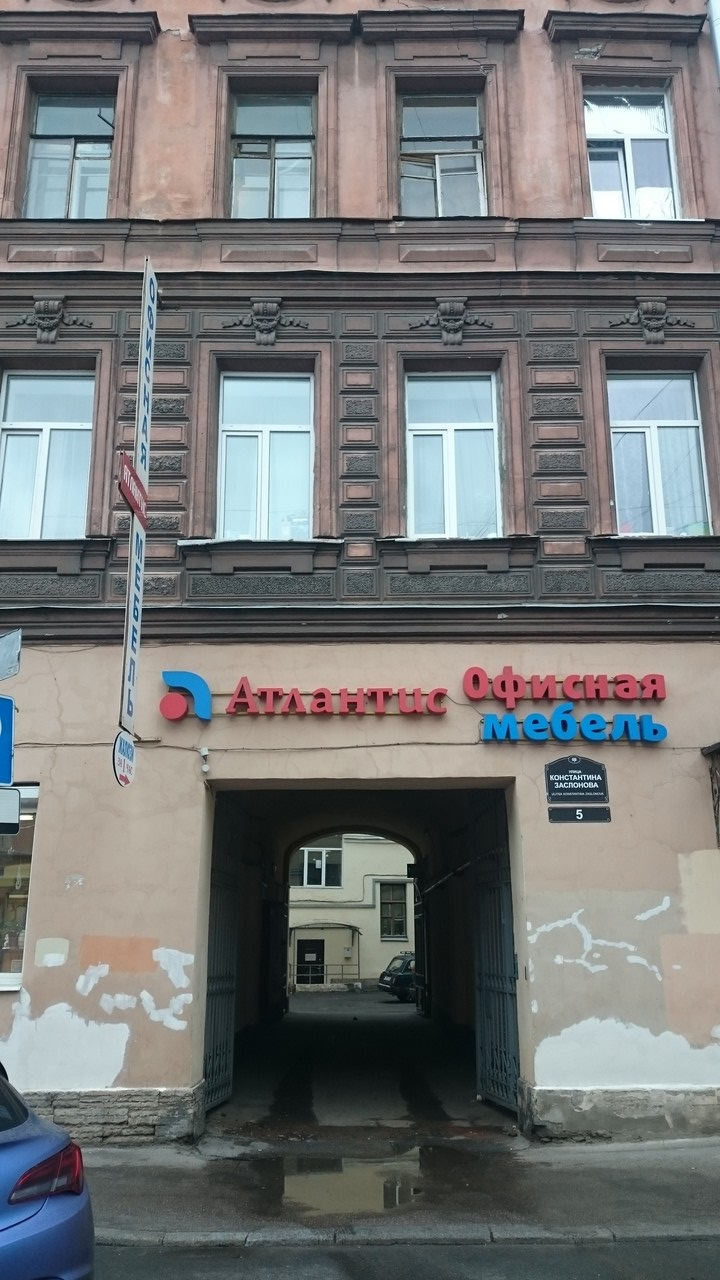arch: (196, 773, 543, 1133)
cantilever: (114, 248, 169, 788)
signboard: (157, 654, 672, 750)
window: (601, 357, 712, 535), (1, 358, 106, 545), (219, 357, 320, 541), (582, 65, 691, 223), (409, 362, 495, 537), (393, 75, 495, 220), (24, 74, 112, 227), (228, 79, 318, 224)
